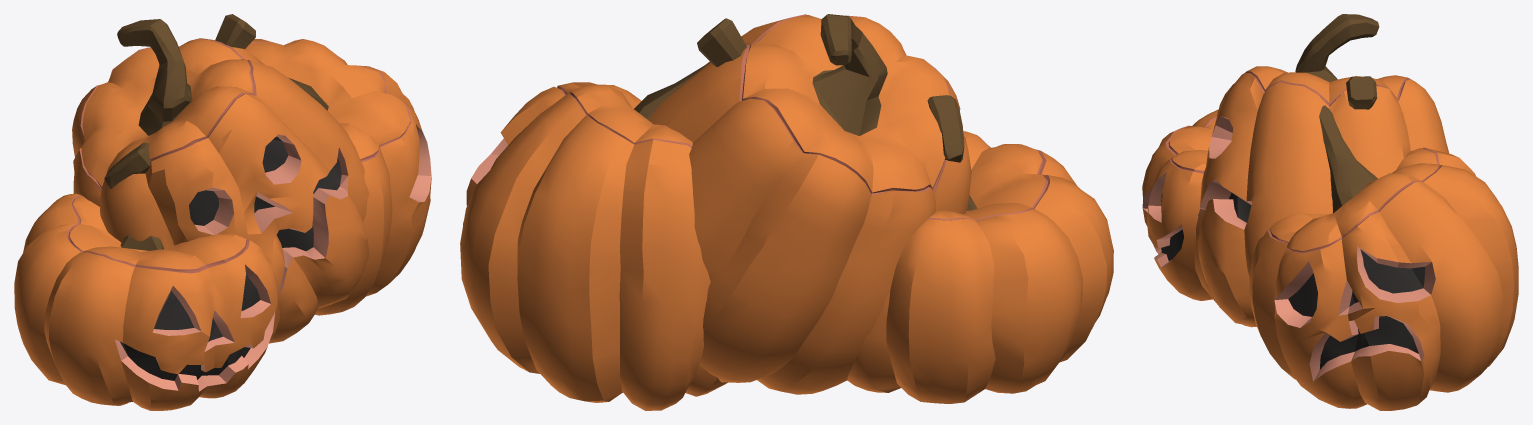
Rendered from pumpkins.glb.
3 views of the same model, side by side, from view 1: azimuth 30°, elevation 25°; view 2: azimuth 150°, elevation 25°; view 3: azimuth 270°, elevation 25° (orthographic). The views are drawn at different scales.
Parts seen in each view (by area): view 1: pair, carved; view 2: pair, carved; view 3: pair, carved.
Boxes of the visible parts, x1,y1,x2,y2 form: pair: [14, 14, 431, 410]; carved: [72, 19, 369, 343]; pair: [460, 18, 1113, 410]; carved: [648, 14, 971, 394]; pair: [1142, 76, 1518, 410]; carved: [1197, 14, 1449, 327].
Size of the model in its own units: 1.49 by 1.02 by 1.17.
